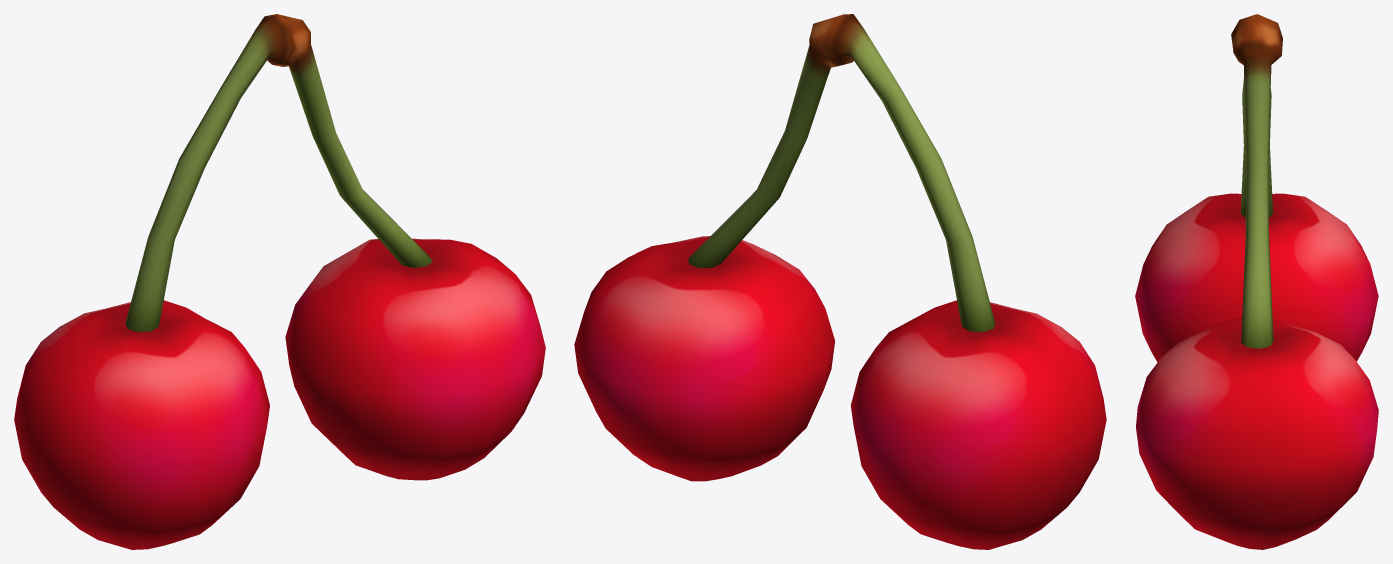
Rendered from Cherries_Red.fbx.
3 renders of one model, left to right at view 1: azimuth 30°, elevation 25°; view 2: azimuth 150°, elevation 25°; view 3: azimuth 270°, elevation 25°, orthographic. The views are drawn at different scales.
Parts seen in each view (by area): view 1: Cherries_Red; view 2: Cherries_Red; view 3: Cherries_Red.
Part boxes in pixels (x1=…): Cherries_Red: x1=14, y1=14, x2=545, y2=549; Cherries_Red: x1=574, y1=14, x2=1106, y2=549; Cherries_Red: x1=1135, y1=14, x2=1378, y2=549.
Bounding box in the file's own units: 32.21 × 30.46 × 14.52.
